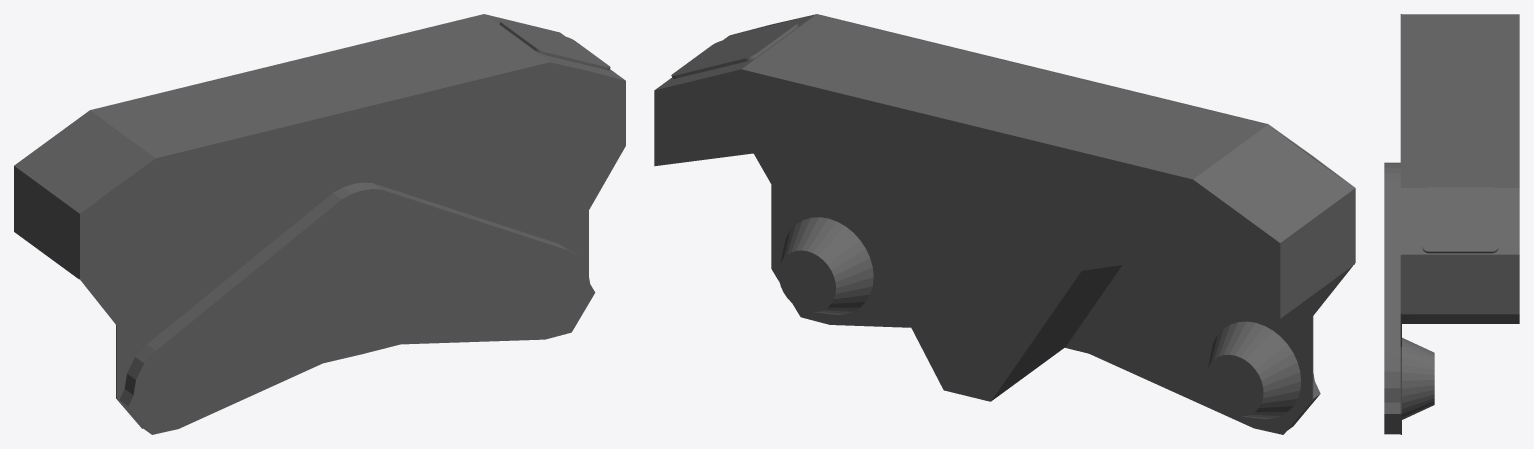
File: WHog_Fender_Right_corr.gltf
3 renders of one model, left to right at view 1: azimuth 30°, elevation 25°; view 2: azimuth 150°, elevation 25°; view 3: azimuth 270°, elevation 25°, orthographic. The views are drawn at different scales.
Visible parts, largest first — view 1: WHog_Fender_Right; view 2: WHog_Fender_Right; view 3: WHog_Fender_Right.
Part boxes in pixels (<box>): WHog_Fender_Right: <box>14,14,625,434</box>; WHog_Fender_Right: <box>654,14,1355,434</box>; WHog_Fender_Right: <box>1384,14,1519,434</box>.
Bounding box in the file's own units: 1.34 × 0.6315 × 0.3178.
Materials: 1 (1 with a texture image).
